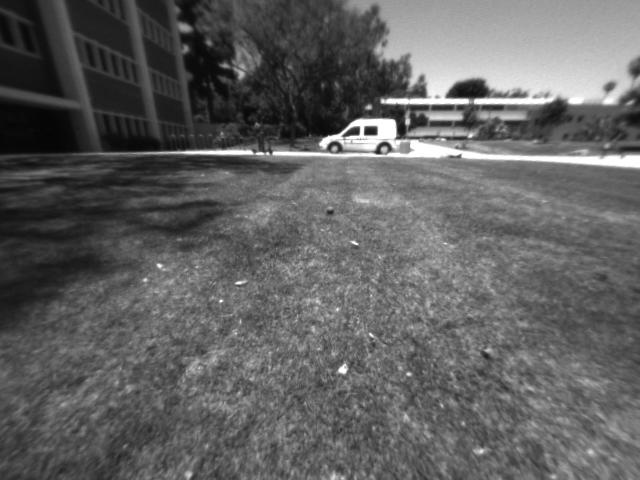dogtoy: (323, 199, 340, 219)
